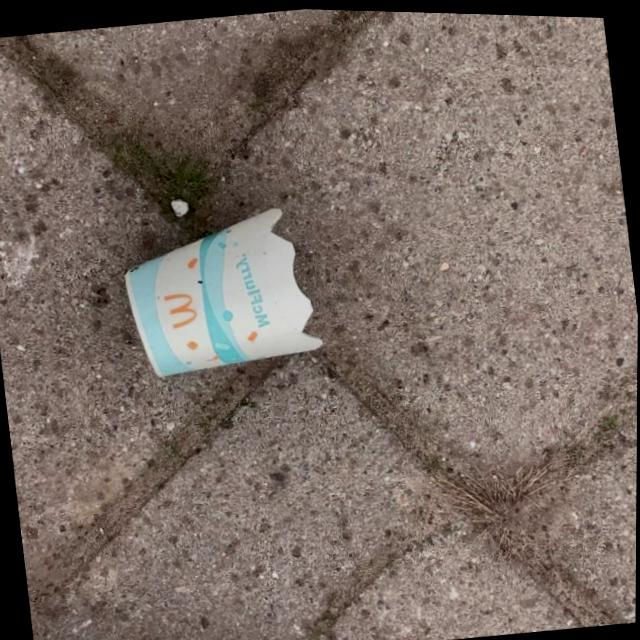Paper: (113, 196, 329, 388)
